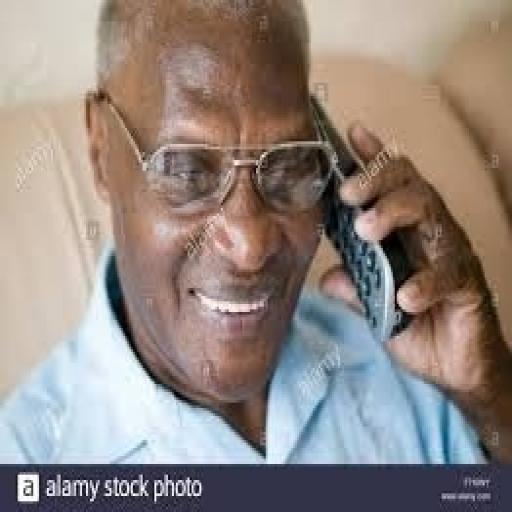calling: (0, 0, 508, 464)
